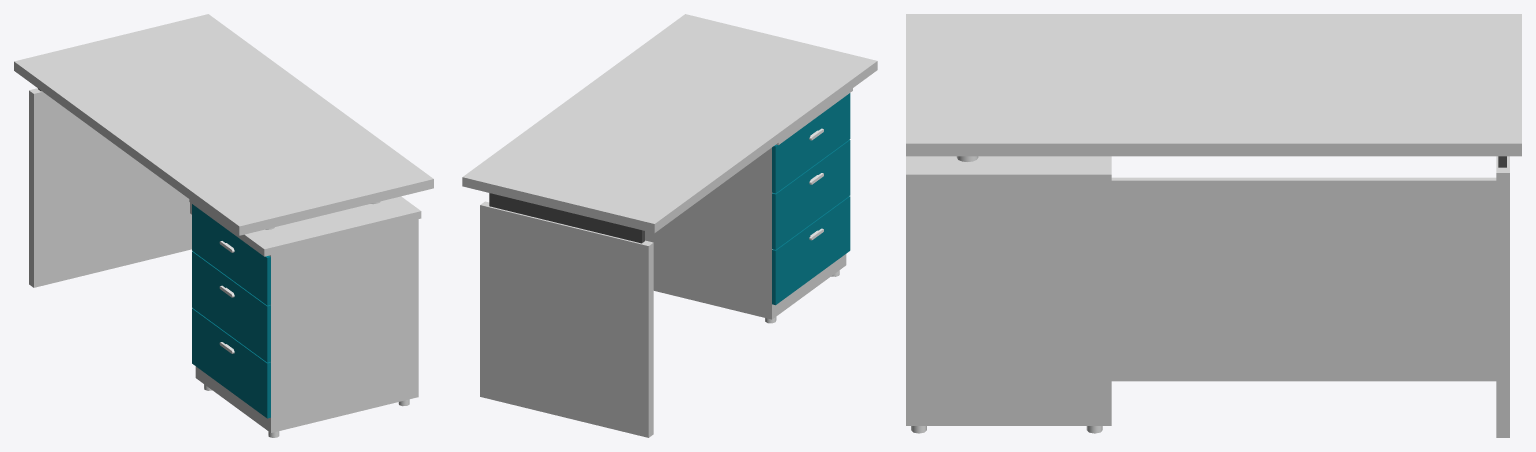
File: ComputerDesk.fbx
The picture shows the model from 3 angles, left to right: view 1: azimuth 30°, elevation 25°; view 2: azimuth 150°, elevation 25°; view 3: azimuth 270°, elevation 25°; orthographic projection. The views are drawn at different scales.
Visible parts, largest first — view 1: ComputerDesk; view 2: ComputerDesk; view 3: ComputerDesk.
Boxes of the visible parts, x1,y1,x2,y2 form: ComputerDesk: (14,14,433,437); ComputerDesk: (462,14,877,437); ComputerDesk: (906,14,1521,437).
Bounding box in the file's own units: 70.06 × 76.47 × 141.
